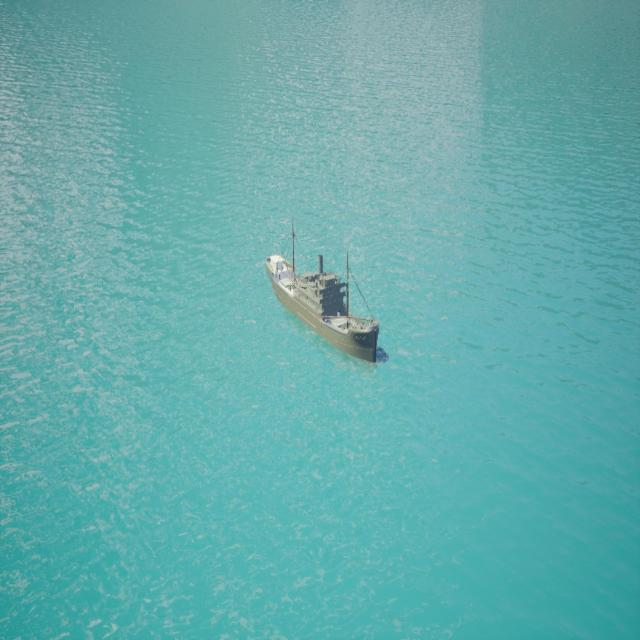fishing ship: (264, 249, 385, 368)
